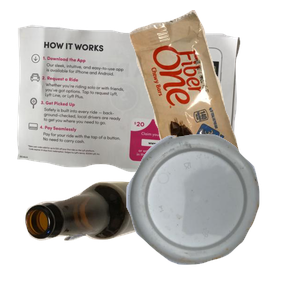glass: (23, 179, 183, 300)
paper: (14, 22, 247, 191)
plastic: (124, 132, 300, 300)
trash: (127, 10, 300, 190)
